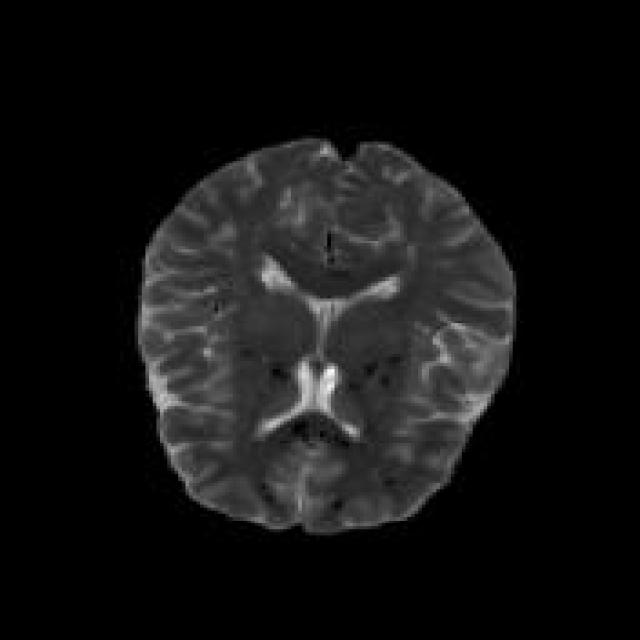CONTROL: (134, 132, 516, 536)
